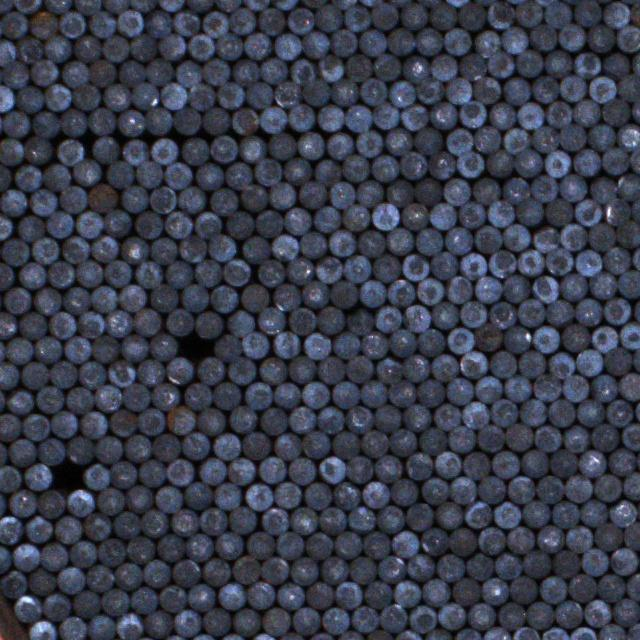tool: (96, 538, 125, 567), (53, 514, 82, 543), (166, 405, 195, 434), (38, 488, 66, 518), (88, 183, 118, 211), (72, 159, 101, 187), (95, 487, 124, 515), (99, 588, 128, 616), (56, 566, 85, 594), (152, 433, 181, 461), (27, 567, 55, 596), (345, 306, 374, 334), (198, 507, 226, 535), (247, 582, 275, 610), (8, 440, 36, 468), (215, 532, 243, 560), (610, 547, 638, 575), (247, 532, 275, 560), (229, 507, 257, 535), (502, 76, 530, 104), (535, 475, 563, 503), (79, 410, 107, 438), (288, 306, 316, 334), (534, 374, 562, 402), (262, 556, 290, 584), (170, 558, 198, 586), (112, 512, 140, 540), (415, 378, 443, 406), (196, 356, 224, 384), (354, 180, 382, 208), (544, 50, 572, 78), (568, 574, 596, 602), (414, 128, 442, 156), (320, 555, 348, 583), (232, 554, 260, 582), (136, 408, 164, 436), (93, 436, 121, 464), (150, 332, 178, 360), (141, 509, 169, 537), (514, 148, 542, 176), (286, 455, 314, 483), (12, 543, 40, 571), (384, 227, 412, 255), (344, 406, 372, 434), (164, 260, 192, 288), (84, 514, 112, 542), (156, 533, 184, 561), (126, 536, 154, 564), (296, 182, 324, 210), (158, 584, 186, 612), (7, 489, 35, 517), (270, 233, 298, 261), (23, 514, 51, 542), (458, 350, 486, 378), (73, 590, 101, 618), (607, 447, 635, 475), (114, 561, 142, 589), (227, 357, 255, 385), (129, 586, 157, 614), (209, 284, 237, 312), (374, 405, 402, 433), (207, 233, 235, 261), (143, 611, 171, 639), (197, 408, 225, 436), (202, 607, 230, 635), (284, 257, 312, 285), (417, 329, 445, 357), (23, 462, 51, 490), (170, 508, 198, 536), (42, 593, 70, 621), (152, 485, 181, 512), (203, 106, 230, 134), (518, 350, 545, 378), (558, 24, 586, 51), (520, 449, 547, 477), (394, 580, 421, 608), (463, 450, 490, 478), (132, 307, 159, 335), (502, 223, 530, 250), (490, 449, 518, 476), (151, 383, 179, 410), (334, 582, 361, 610), (60, 235, 88, 262), (500, 26, 527, 54), (262, 607, 289, 635), (430, 252, 457, 280), (414, 227, 441, 255), (61, 286, 88, 314), (390, 479, 418, 506), (583, 599, 610, 627), (404, 451, 432, 478), (603, 346, 630, 374), (364, 580, 391, 608), (436, 554, 464, 581), (505, 422, 532, 450), (517, 298, 544, 326), (360, 77, 388, 104), (165, 210, 192, 238), (487, 200, 514, 228), (184, 383, 212, 410), (70, 538, 97, 566), (302, 430, 329, 458), (232, 608, 259, 636), (79, 361, 106, 389), (429, 202, 456, 230), (388, 328, 416, 355), (452, 578, 479, 606), (20, 360, 47, 388), (537, 524, 564, 552), (38, 439, 66, 466), (223, 259, 251, 286), (414, 26, 441, 54), (19, 312, 46, 340), (166, 308, 193, 336), (120, 334, 148, 361), (589, 272, 616, 300), (118, 285, 146, 312), (257, 306, 285, 333), (347, 555, 374, 583), (214, 33, 242, 60), (301, 380, 329, 407), (596, 574, 623, 602), (180, 283, 207, 311), (590, 423, 617, 451), (361, 430, 388, 458), (41, 541, 68, 569), (184, 534, 211, 562), (85, 565, 113, 592), (202, 557, 229, 585), (110, 461, 137, 489), (213, 482, 240, 510), (28, 10, 56, 37), (342, 254, 369, 282), (358, 231, 386, 258), (330, 280, 358, 307), (476, 423, 503, 451), (28, 187, 56, 214), (472, 177, 500, 204), (184, 482, 212, 509), (182, 433, 210, 460), (328, 180, 355, 208), (284, 207, 312, 234), (166, 356, 193, 384), (15, 87, 43, 114), (66, 489, 94, 516), (16, 214, 44, 241), (403, 403, 430, 431), (213, 382, 241, 409), (178, 235, 205, 263), (460, 401, 487, 429), (389, 378, 416, 406), (172, 608, 199, 636), (376, 504, 403, 532), (240, 331, 268, 358), (332, 431, 359, 459), (589, 325, 616, 353), (146, 58, 174, 85), (271, 283, 299, 310), (226, 212, 254, 239), (158, 32, 186, 59), (256, 208, 283, 236), (124, 435, 151, 463), (489, 399, 516, 427), (108, 409, 136, 436), (198, 456, 226, 483), (125, 484, 152, 512), (240, 284, 267, 312), (64, 386, 92, 413), (404, 305, 431, 333), (59, 184, 86, 212), (473, 30, 500, 58), (43, 164, 71, 191), (131, 82, 158, 110), (182, 136, 209, 164), (458, 252, 485, 280), (332, 331, 359, 359), (31, 111, 59, 138), (238, 134, 265, 162), (436, 503, 464, 530), (231, 58, 258, 86), (24, 135, 51, 163), (312, 160, 340, 187), (227, 310, 255, 337), (474, 226, 501, 254), (88, 108, 115, 135), (303, 78, 330, 105), (444, 28, 471, 55), (405, 502, 432, 529), (502, 177, 529, 204), (276, 531, 303, 558), (374, 455, 401, 482), (477, 527, 504, 554), (565, 475, 592, 502), (288, 104, 315, 131), (46, 210, 73, 237), (21, 414, 48, 441), (448, 528, 475, 555), (173, 108, 200, 135), (363, 532, 390, 559), (400, 151, 427, 178), (48, 360, 75, 387), (136, 262, 163, 289), (30, 59, 57, 86), (477, 477, 504, 504), (372, 203, 399, 230), (515, 198, 542, 225), (444, 227, 471, 254), (473, 76, 500, 103), (230, 406, 257, 433), (448, 477, 475, 504), (342, 204, 369, 231), (319, 507, 346, 534), (122, 383, 149, 410), (430, 55, 457, 82), (32, 287, 59, 314), (389, 429, 416, 456), (488, 301, 515, 328), (301, 31, 328, 58), (554, 600, 581, 627), (504, 374, 531, 401), (408, 604, 435, 631), (331, 80, 358, 107), (551, 500, 578, 527), (551, 551, 578, 578), (372, 255, 399, 282), (253, 159, 280, 186), (400, 3, 427, 30), (6, 337, 33, 364), (464, 500, 491, 527), (135, 358, 162, 385), (245, 381, 272, 408), (31, 237, 58, 264), (102, 85, 129, 112), (320, 606, 347, 633), (475, 276, 502, 303), (572, 148, 599, 175), (166, 162, 193, 189), (137, 460, 164, 487), (117, 8, 144, 35), (494, 500, 521, 527), (188, 584, 215, 611), (418, 428, 445, 455), (561, 323, 588, 350), (602, 298, 629, 325), (150, 284, 177, 311), (578, 449, 605, 476), (1, 110, 28, 137), (214, 433, 241, 460), (297, 131, 324, 158), (0, 237, 27, 264), (332, 380, 359, 407), (457, 202, 484, 229), (429, 1, 456, 28), (122, 236, 149, 263), (386, 278, 413, 305), (468, 602, 495, 629), (303, 332, 330, 359), (14, 163, 41, 190), (195, 310, 222, 337), (318, 406, 345, 433), (359, 280, 386, 307), (575, 198, 602, 225), (210, 188, 237, 215), (91, 335, 118, 362), (0, 61, 27, 88), (314, 3, 341, 30), (66, 436, 93, 463), (464, 552, 491, 579), (327, 131, 354, 158), (268, 181, 295, 208), (601, 98, 628, 125), (327, 229, 354, 256), (362, 331, 389, 358), (215, 334, 242, 361), (93, 135, 120, 162), (166, 457, 193, 484), (314, 256, 341, 283), (242, 431, 269, 458), (390, 529, 417, 556), (116, 59, 143, 86), (244, 482, 271, 509), (422, 478, 449, 505), (320, 355, 347, 382), (283, 158, 310, 185), (385, 178, 412, 205), (475, 325, 502, 352), (83, 464, 110, 491), (446, 326, 473, 353), (402, 254, 429, 281), (259, 358, 286, 385), (116, 613, 143, 640), (432, 404, 459, 431), (14, 594, 41, 621), (558, 174, 584, 202), (291, 506, 317, 534), (580, 498, 606, 526), (344, 55, 370, 83), (346, 104, 372, 132), (194, 260, 222, 286), (104, 310, 130, 338), (318, 306, 344, 334), (147, 107, 173, 135), (559, 222, 585, 250), (36, 386, 64, 412), (380, 603, 406, 631), (73, 84, 101, 110), (373, 54, 399, 82), (481, 577, 507, 605), (546, 246, 572, 274), (51, 410, 77, 438), (487, 148, 513, 176), (422, 579, 448, 607), (531, 274, 557, 302), (510, 576, 536, 604), (488, 250, 514, 278), (446, 128, 472, 156), (33, 336, 59, 364), (403, 352, 429, 380), (458, 100, 484, 128), (320, 454, 346, 482), (489, 350, 515, 378), (144, 560, 170, 588), (446, 376, 472, 404), (150, 184, 176, 212), (545, 99, 571, 127), (540, 576, 566, 604), (318, 54, 344, 82), (45, 34, 71, 62), (548, 399, 574, 427), (550, 448, 576, 476), (614, 598, 640, 626), (522, 550, 548, 578), (94, 383, 120, 411), (293, 606, 319, 634), (588, 222, 614, 250), (606, 399, 632, 427), (76, 310, 102, 338), (0, 570, 26, 598), (292, 556, 318, 584), (302, 279, 328, 307), (73, 34, 99, 62), (496, 602, 524, 628), (226, 161, 252, 189), (487, 0, 513, 28), (432, 352, 458, 380), (416, 278, 444, 304), (76, 212, 104, 238), (375, 304, 401, 332), (87, 614, 115, 640), (300, 232, 326, 260), (288, 356, 314, 384), (414, 176, 440, 204), (130, 33, 156, 61), (603, 197, 629, 225), (1, 287, 29, 313), (57, 139, 85, 165), (609, 501, 637, 527), (334, 531, 360, 558), (594, 522, 620, 549), (516, 51, 542, 78), (582, 549, 608, 576), (573, 98, 599, 125), (232, 108, 258, 135), (519, 398, 546, 424), (516, 102, 542, 129), (63, 337, 89, 364), (49, 312, 75, 339), (363, 481, 389, 508), (262, 507, 288, 534), (544, 149, 570, 176), (386, 27, 412, 54), (107, 162, 134, 188), (346, 455, 372, 482), (588, 75, 614, 102), (136, 162, 163, 188), (273, 482, 300, 508), (243, 31, 269, 58), (486, 52, 512, 79), (217, 83, 244, 109), (402, 203, 428, 230), (104, 261, 130, 288), (529, 24, 555, 51), (273, 32, 300, 58), (341, 156, 368, 182), (358, 29, 384, 56), (522, 499, 548, 526), (576, 0, 603, 26), (530, 175, 556, 202), (272, 331, 298, 358), (577, 399, 603, 426), (535, 424, 561, 451), (107, 359, 133, 386), (45, 85, 71, 112), (402, 102, 428, 129), (77, 261, 103, 288), (135, 212, 161, 239), (375, 102, 401, 129), (508, 477, 534, 504), (604, 1, 630, 28), (428, 151, 454, 178), (161, 83, 187, 110), (258, 7, 284, 34), (90, 285, 116, 312), (306, 582, 332, 609), (16, 37, 42, 64), (378, 556, 404, 583), (575, 299, 601, 326), (245, 83, 272, 109), (505, 326, 531, 353), (290, 407, 316, 434), (458, 3, 484, 30), (434, 451, 460, 478), (488, 102, 514, 129), (566, 526, 593, 552), (593, 474, 619, 501), (445, 276, 471, 303), (588, 125, 615, 151), (385, 128, 411, 155), (273, 80, 300, 106), (348, 507, 374, 534), (531, 75, 557, 102), (407, 553, 433, 580), (47, 262, 74, 288), (312, 206, 339, 232), (508, 526, 534, 553), (171, 9, 198, 35), (188, 33, 214, 60), (431, 101, 457, 128), (475, 375, 501, 402), (92, 234, 118, 261), (333, 482, 359, 509), (260, 456, 286, 483), (403, 55, 429, 82), (258, 260, 285, 286), (459, 302, 486, 328), (590, 374, 616, 401), (576, 250, 602, 277), (360, 379, 386, 406), (305, 532, 332, 558), (602, 248, 628, 275), (274, 433, 300, 460), (503, 275, 529, 302), (546, 198, 572, 225), (346, 354, 372, 381), (187, 84, 213, 111), (517, 250, 543, 277), (151, 236, 177, 263), (443, 177, 469, 204), (228, 458, 255, 484), (546, 300, 572, 327), (123, 184, 149, 211), (195, 211, 221, 238), (448, 426, 474, 453), (202, 11, 228, 38), (432, 301, 458, 328), (103, 209, 129, 236), (458, 54, 484, 81), (376, 358, 403, 384), (60, 108, 86, 135), (144, 11, 170, 38), (532, 126, 558, 153), (62, 59, 88, 86), (261, 407, 287, 434), (371, 156, 398, 182), (18, 263, 45, 289), (589, 175, 615, 202), (240, 183, 266, 210), (242, 235, 268, 262), (90, 11, 116, 38), (273, 381, 300, 407), (288, 58, 314, 85), (534, 324, 559, 352), (229, 6, 254, 34), (0, 187, 25, 215), (562, 424, 587, 452), (58, 616, 87, 640), (262, 106, 288, 132), (558, 124, 584, 150), (576, 348, 602, 374), (101, 35, 127, 61), (589, 26, 615, 52), (89, 59, 115, 85), (601, 147, 627, 173), (559, 74, 585, 100), (372, 4, 398, 30), (445, 78, 471, 104), (318, 104, 344, 130), (422, 528, 448, 554), (119, 110, 145, 136), (350, 605, 376, 631), (261, 59, 287, 85), (356, 131, 382, 157), (504, 128, 530, 154), (276, 584, 302, 610), (438, 602, 464, 628), (456, 152, 482, 178), (288, 7, 314, 33), (495, 552, 521, 578), (559, 274, 585, 300), (562, 375, 588, 401), (474, 127, 500, 153), (202, 59, 228, 85), (574, 53, 600, 79), (343, 6, 369, 32), (153, 138, 179, 164), (217, 584, 243, 610), (268, 132, 294, 158), (197, 164, 223, 190), (525, 602, 551, 628), (516, 0, 542, 26), (210, 136, 236, 162), (304, 482, 330, 508), (543, 0, 569, 26), (179, 186, 205, 212), (531, 226, 557, 252), (604, 53, 630, 79), (124, 138, 150, 164), (331, 29, 356, 56), (0, 11, 25, 38), (6, 389, 33, 414), (615, 220, 640, 247), (175, 59, 200, 86), (417, 77, 442, 104), (549, 350, 574, 377), (391, 81, 416, 107), (59, 12, 84, 38), (0, 516, 23, 544), (617, 24, 640, 51), (617, 123, 640, 150), (0, 137, 23, 164), (618, 269, 640, 297), (618, 373, 640, 401), (26, 619, 55, 640), (617, 172, 640, 198), (618, 75, 640, 102), (0, 464, 21, 491), (0, 414, 20, 442), (620, 321, 640, 348), (621, 423, 640, 450), (0, 361, 18, 388), (623, 470, 640, 498), (623, 521, 640, 549), (597, 624, 624, 640), (0, 312, 15, 339), (626, 573, 640, 601), (482, 626, 510, 640), (0, 263, 14, 291), (0, 38, 14, 64), (570, 627, 598, 640), (512, 627, 540, 640), (13, 0, 41, 13), (44, 0, 72, 13), (0, 86, 13, 113), (74, 0, 100, 13), (102, 0, 128, 13), (542, 627, 568, 640), (423, 628, 451, 640), (184, 0, 212, 12), (453, 628, 481, 640), (130, 0, 157, 12), (0, 543, 11, 572), (213, 0, 239, 12), (0, 215, 12, 241), (629, 145, 640, 173), (366, 629, 393, 640), (393, 629, 419, 640), (0, 162, 10, 190), (159, 0, 184, 11), (242, 0, 269, 10), (271, 0, 298, 10), (338, 630, 364, 640), (332, 0, 358, 10), (630, 0, 640, 26), (631, 198, 640, 225), (632, 345, 640, 373), (300, 0, 328, 8), (277, 632, 304, 640), (632, 245, 640, 271), (632, 52, 640, 78), (632, 98, 640, 124), (627, 623, 639, 640), (633, 294, 640, 323), (308, 633, 335, 640), (248, 633, 274, 640), (0, 490, 6, 520), (159, 634, 188, 640), (0, 441, 6, 469), (220, 634, 248, 640), (385, 0, 413, 6), (190, 634, 217, 640), (416, 0, 443, 6), (634, 397, 640, 424), (445, 0, 471, 6), (358, 0, 384, 6), (0, 0, 12, 12), (0, 388, 5, 416), (530, 0, 557, 5), (473, 0, 499, 5)
void: (50, 458, 85, 491), (176, 334, 212, 362)
